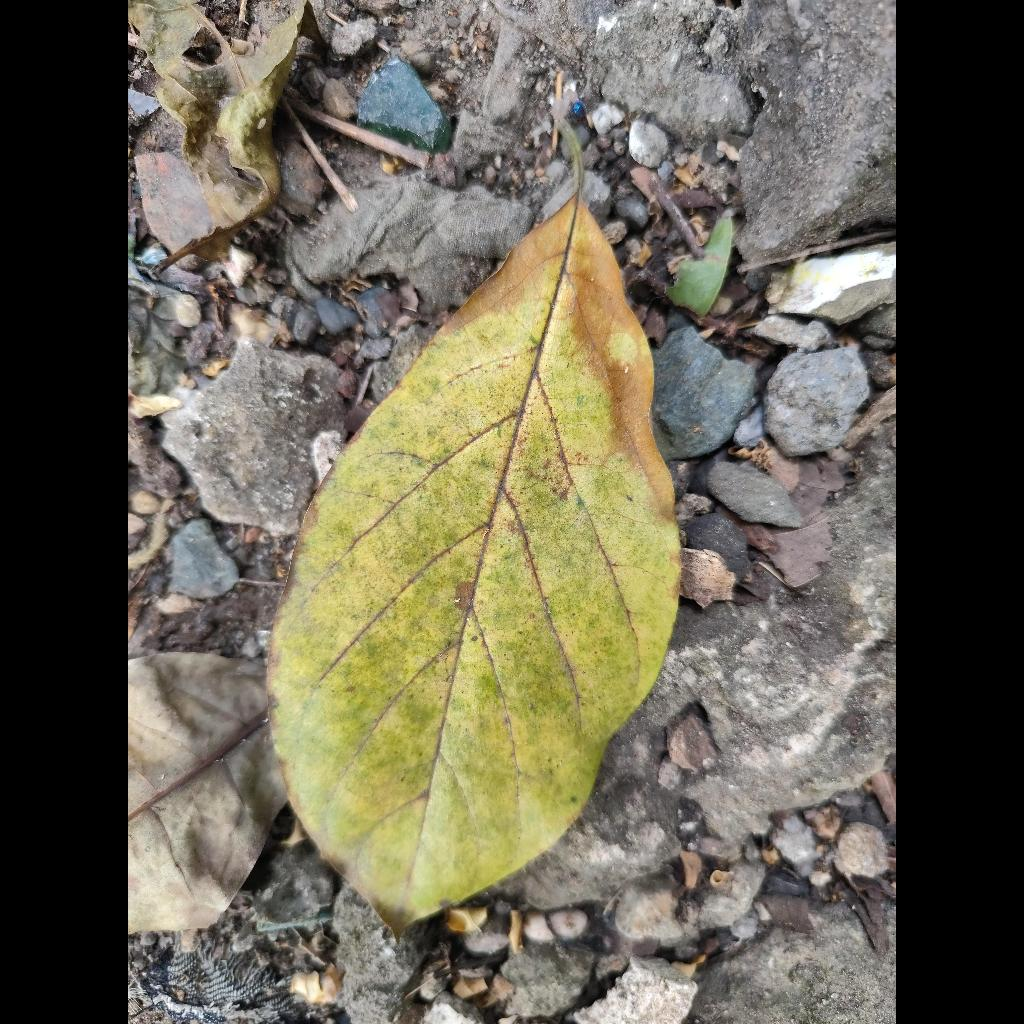nutrient_deficiency: (269, 196, 679, 934)
